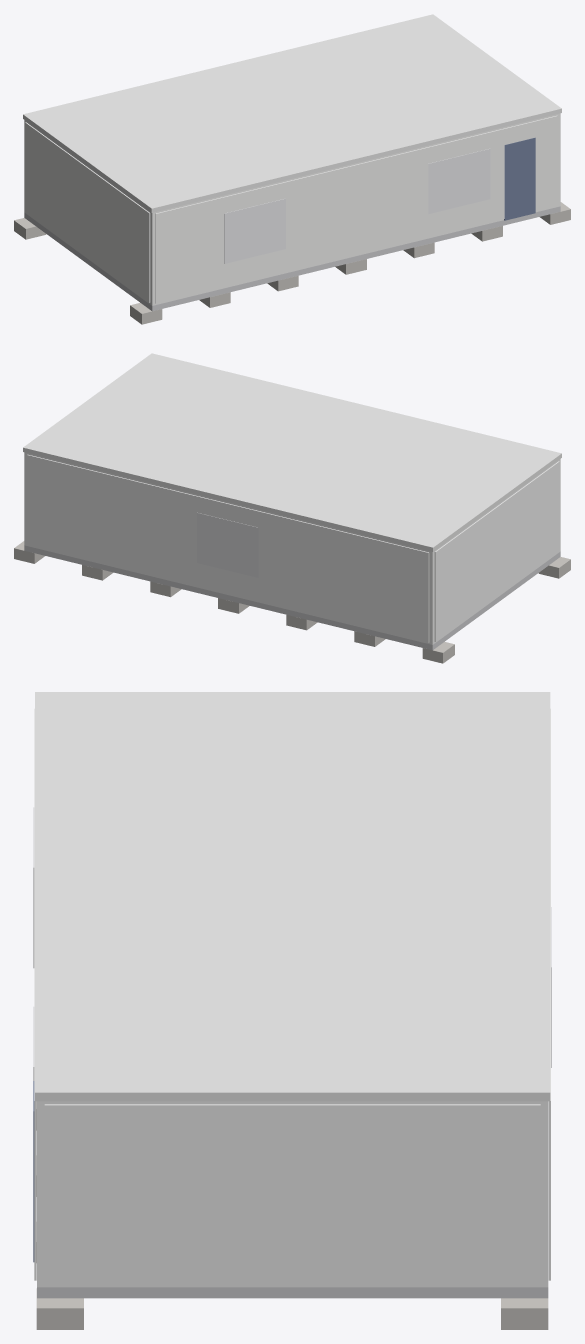
Rendered from Studio-40-Premium-LOD2.glb.
3 views of the same model, one above another, from view 1: azimuth 30°, elevation 25°; view 2: azimuth 150°, elevation 25°; view 3: azimuth 270°, elevation 25° (orthographic). The views are drawn at different scales.
Visible parts, largest first — view 1: RoofMain, ExteriorPanelsPremium, WindowsLargeUpgrade, BaseFrame, ExteriorShell, FoundationBlocks, EntryDoor; view 2: RoofMain, ExteriorPanelsPremium, BaseFrame, WindowsLargeUpgrade, ExteriorShell, FoundationBlocks; view 3: RoofMain, ExteriorPanelsPremium, ExteriorShell, BaseFrame, FoundationBlocks.
Boxes of the visible parts, <box> form: RoofMain: <box>23,14,561,212</box>; ExteriorPanelsPremium: <box>25,115,557,303</box>; WindowsLargeUpgrade: <box>224,148,490,263</box>; BaseFrame: <box>24,206,560,311</box>; ExteriorShell: <box>24,113,560,305</box>; FoundationBlocks: <box>14,202,570,324</box>; EntryDoor: <box>504,137,535,220</box>; RoofMain: <box>23,353,561,551</box>; ExteriorPanelsPremium: <box>27,454,559,642</box>; BaseFrame: <box>24,545,560,650</box>; WindowsLargeUpgrade: <box>197,512,258,577</box>; ExteriorShell: <box>24,452,560,644</box>; FoundationBlocks: <box>14,541,570,663</box>; RoofMain: <box>35,692,550,1101</box>; ExteriorPanelsPremium: <box>34,708,550,1284</box>; ExteriorShell: <box>37,1101,548,1287</box>; BaseFrame: <box>37,1287,548,1298</box>; FoundationBlocks: <box>36,1101,548,1329</box>.
Size of the model in its own units: 12.49 by 3.17 by 6.53.
